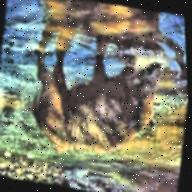boar: (7, 31, 172, 176)
